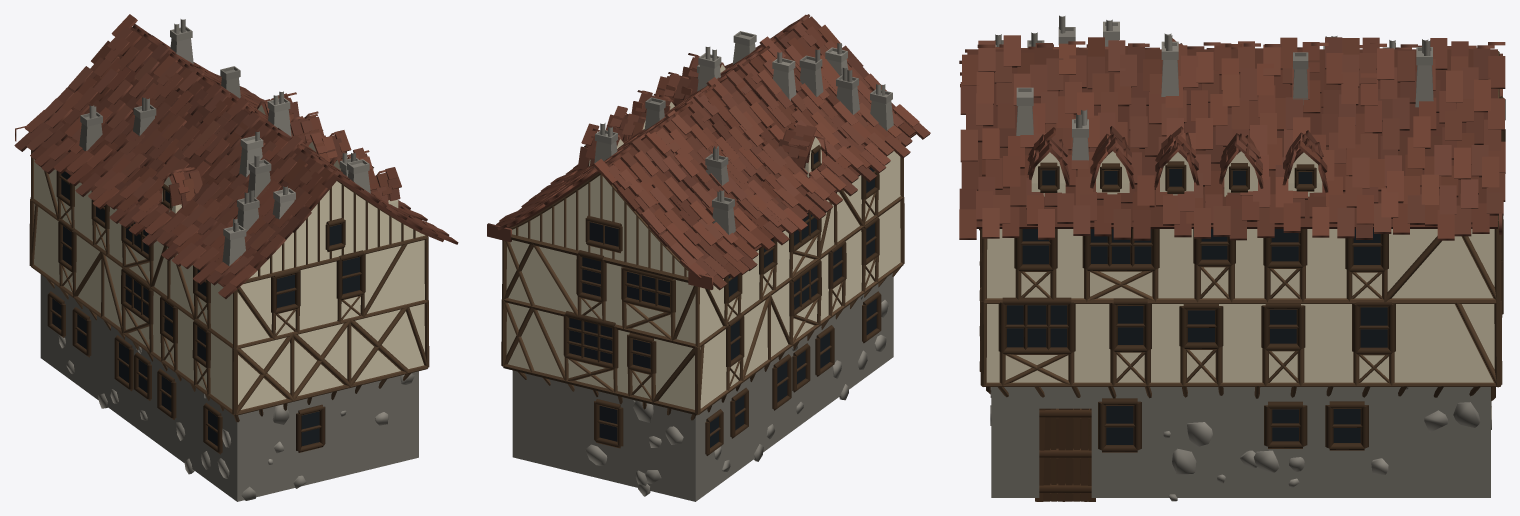
The model's file is house_49.glb.
3 renders of one model, left to right at view 1: azimuth 30°, elevation 25°; view 2: azimuth 150°, elevation 25°; view 3: azimuth 270°, elevation 25°, orthographic. The views are drawn at different scales.
Parts seen in each view (by area): view 1: house_49; view 2: house_49; view 3: house_49.
Part boxes in pixels (x1,y1,x2,y2): house_49: (14, 14, 458, 501); house_49: (487, 14, 930, 501); house_49: (959, 15, 1505, 501).
Bounding box in the file's own units: 6.57 × 9.01 × 10.34.
